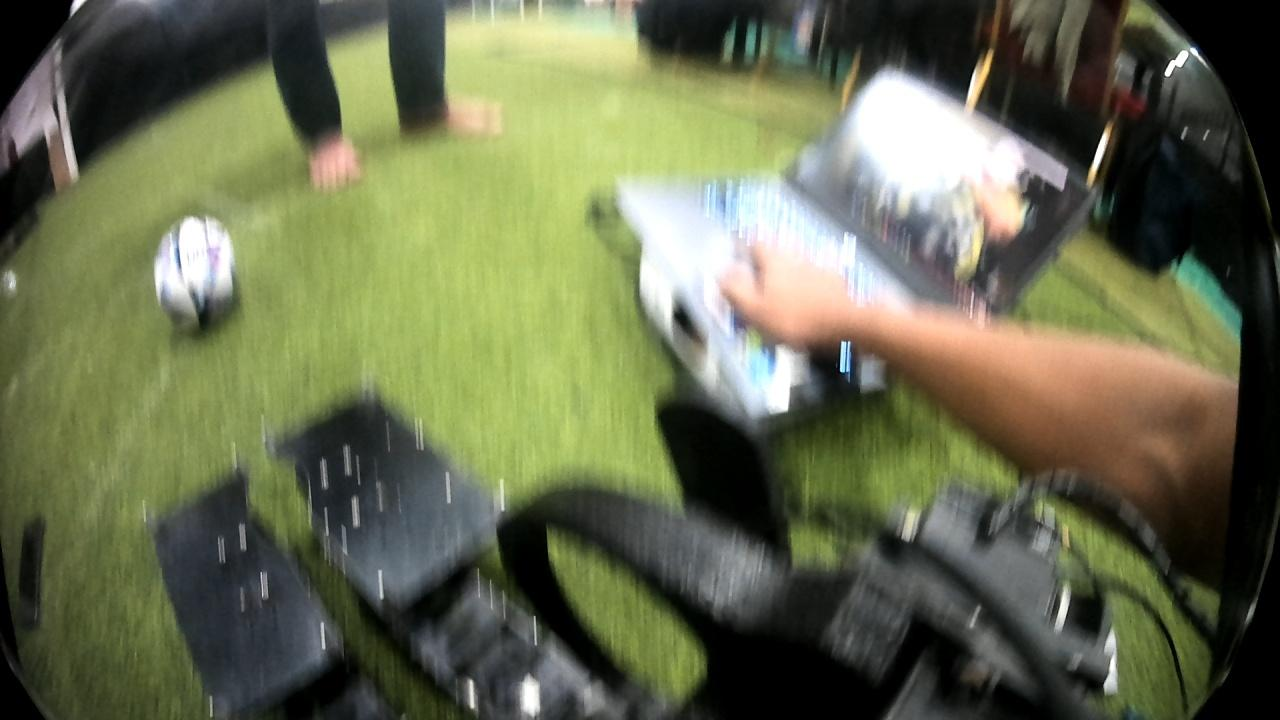ball: (147, 208, 247, 337)
